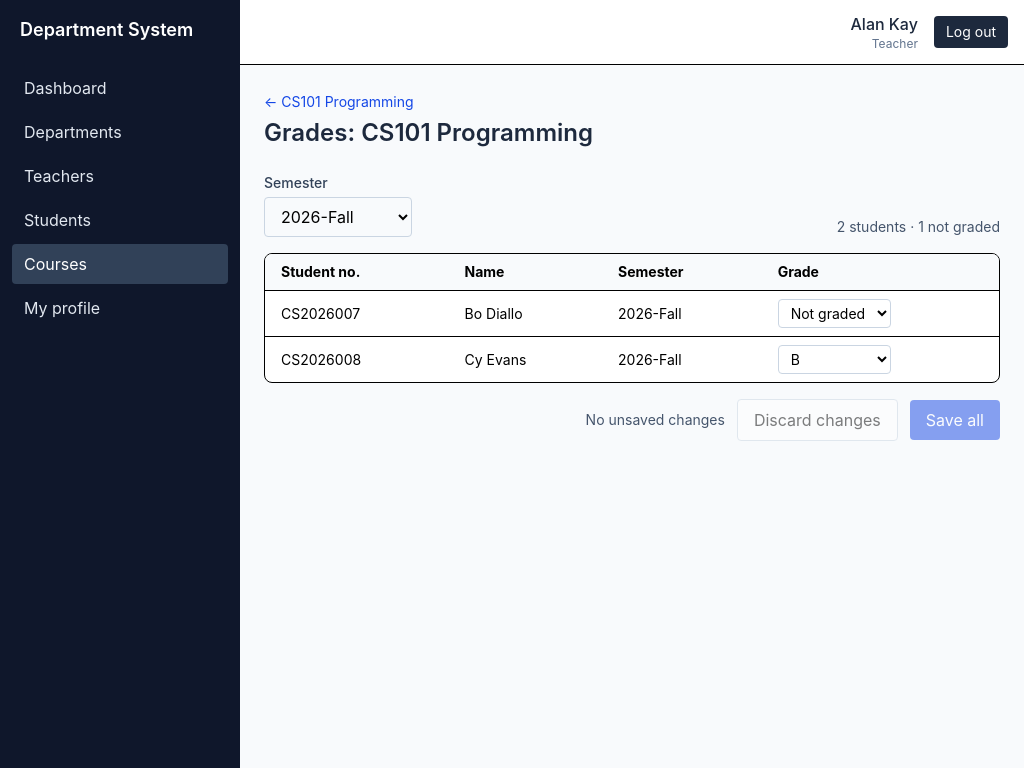
it: Save all (FR-6.7) › sends only the changed rows, from every semester, in one request
Expected: the heading "Grades: CS101 Programming" is shown, [264, 118, 593, 147]
Expected: the button "Save all" is disabled, [910, 400, 1000, 440]
Select "A-" in the dropdown named "Grade for Bo Diallo (2026-Fall)" at (834, 314), box [778, 299, 891, 328]
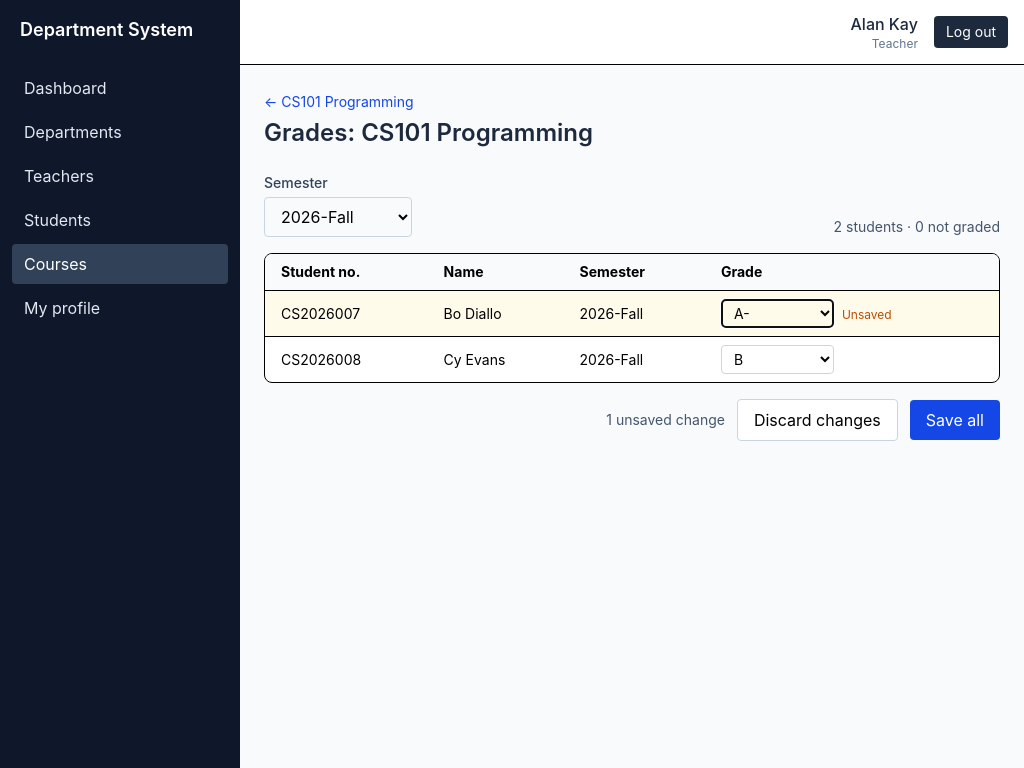
Select "2026-Spring" in the dropdown labelled "Semester" at (338, 217), box [264, 197, 412, 237]
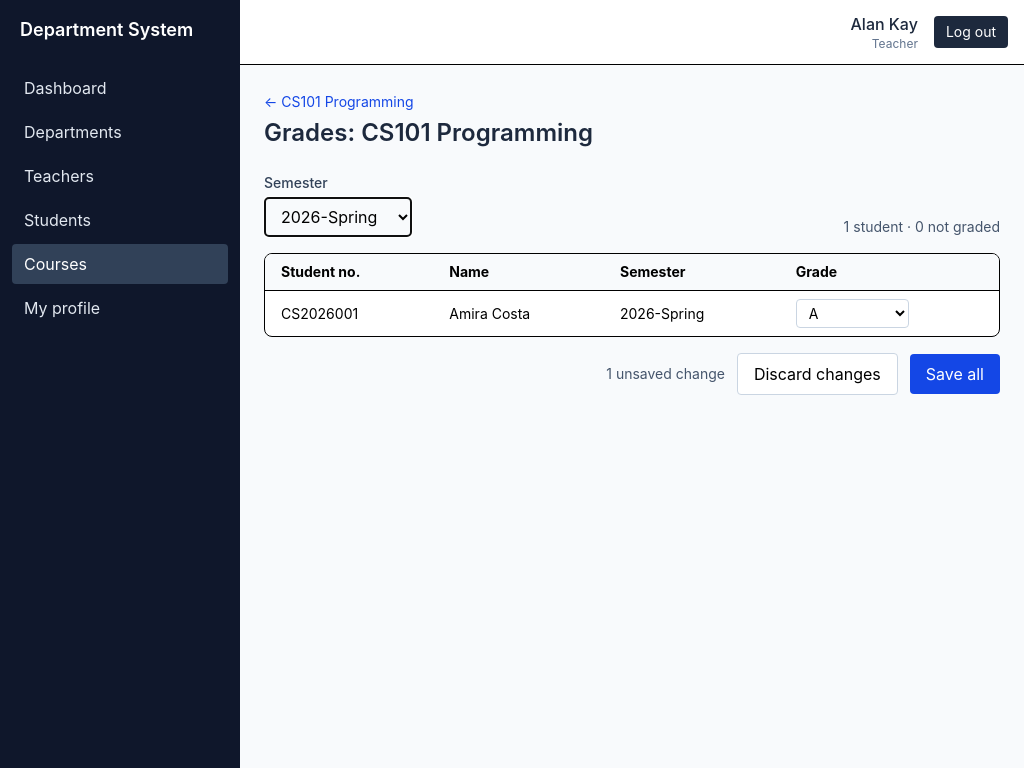
Select "Not graded" in the dropdown named "Grade for Amira Costa (2026-Spring)" at (852, 314), box [796, 299, 909, 328]
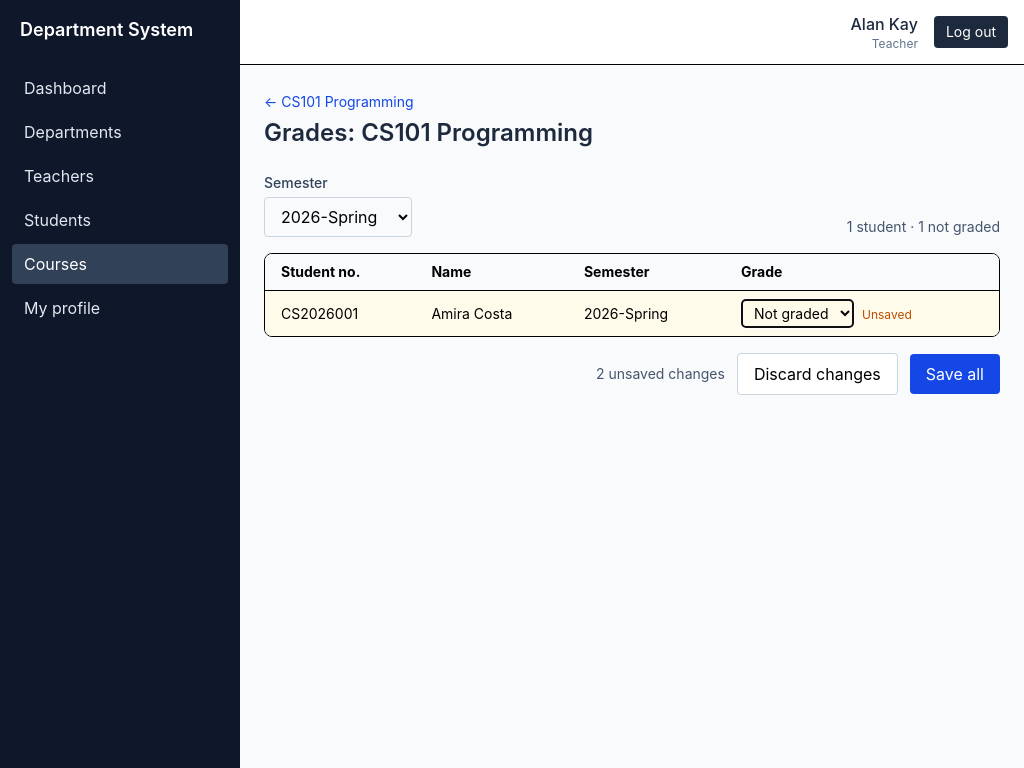
Result: the text "2 unsaved changes" is shown at [596, 364, 725, 384]
Click the button "Save all" at (955, 374), box [910, 354, 1000, 394]
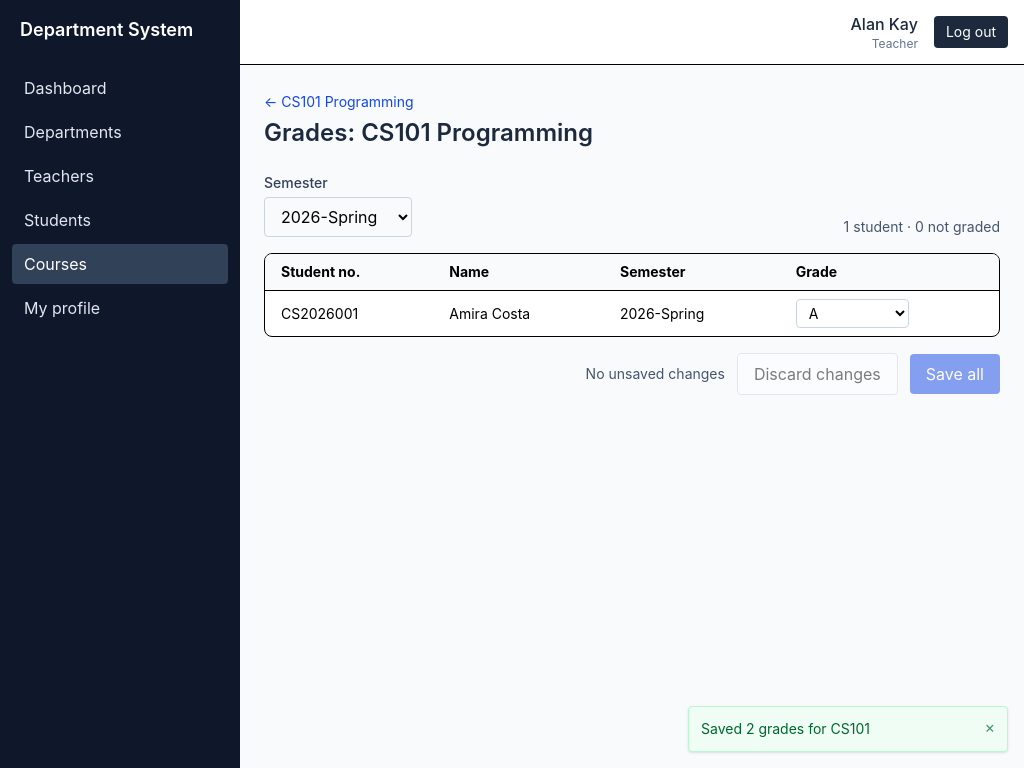
Result: the message shows "Saved 2 grades for CS101" at [701, 720, 870, 737]
Result: the text "No unsaved changes" is shown at [586, 364, 725, 384]
